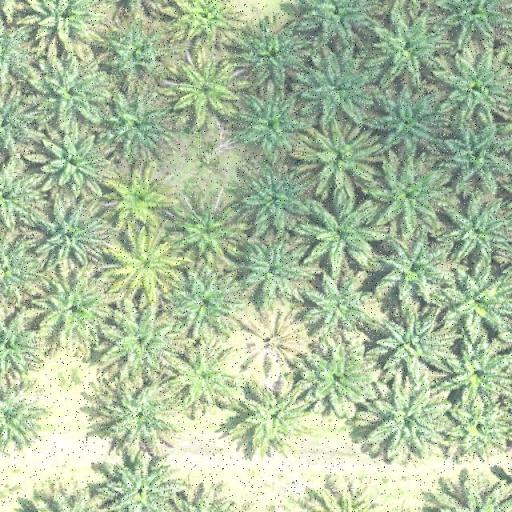Ganoderma: (125, 244, 168, 284), (187, 73, 227, 108), (119, 182, 158, 217)
